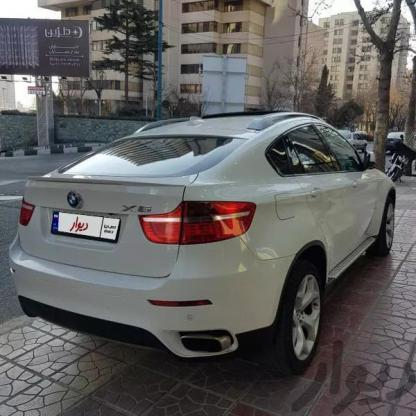Car: (7, 101, 379, 374), (336, 127, 374, 148)
